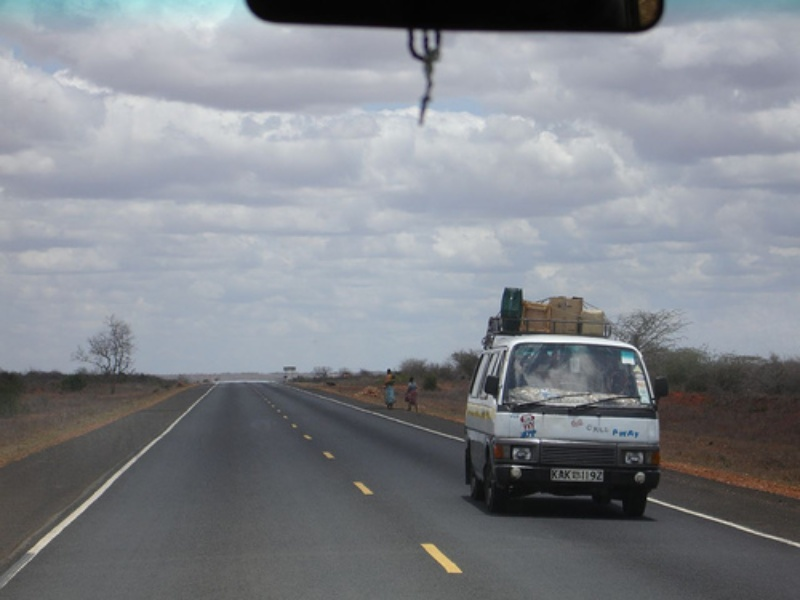car: (464, 287, 669, 518)
person: (404, 375, 420, 413), (384, 368, 396, 409)
plate: (548, 468, 605, 484)
